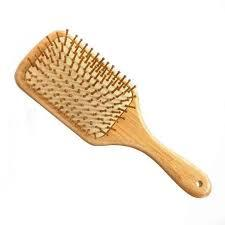brush: (15, 29, 211, 197)
